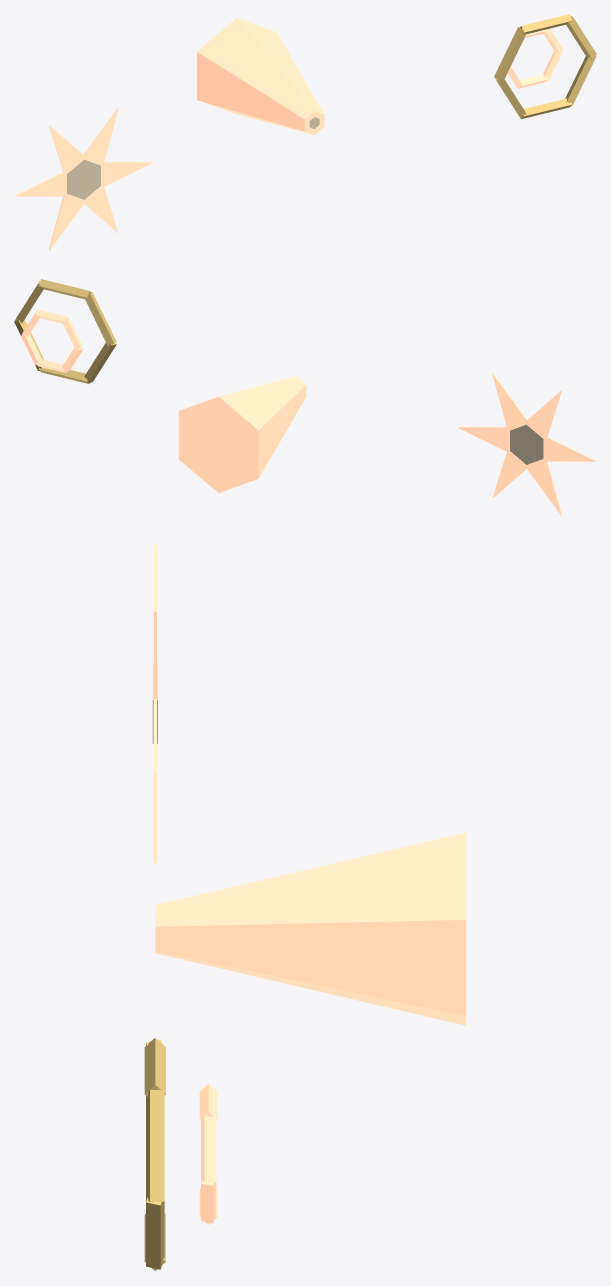
The model's file is FX_AegisMuzzleFlashes.fbx.
3 renders of one model, top to bottom at view 1: azimuth 30°, elevation 25°; view 2: azimuth 150°, elevation 25°; view 3: azimuth 270°, elevation 25°, orthographic. The views are drawn at different scales.
Parts seen in each view (by area): view 1: AFlash_ConeOuter, AFlash_HexStar, AFlash_RingA, AFlash_HexCore, AFlash_RingB; view 2: AFlash_ConeOuter, AFlash_HexStar, AFlash_RingA, AFlash_RingB, AFlash_HexCore; view 3: AFlash_ConeOuter, AFlash_RingA, AFlash_RingB, AFlash_HexStar.
Boxes of the visible parts, <box> form: AFlash_ConeOuter: <box>197,18,324,134</box>; AFlash_HexStar: <box>14,108,152,250</box>; AFlash_RingA: <box>494,14,596,119</box>; AFlash_HexCore: <box>67,159,100,199</box>; AFlash_RingB: <box>501,28,563,88</box>; AFlash_ConeOuter: <box>178,376,306,492</box>; AFlash_HexStar: <box>458,373,596,515</box>; AFlash_RingA: <box>14,279,116,384</box>; AFlash_RingB: <box>21,309,83,372</box>; AFlash_HexCore: <box>510,424,543,464</box>; AFlash_ConeOuter: <box>155,832,466,1025</box>; AFlash_RingA: <box>144,1037,165,1271</box>; AFlash_RingB: <box>199,1084,217,1224</box>; AFlash_HexStar: <box>153,544,156,863</box>.
Size of the model in its own units: 1.51 by 0.3118 by 0.362.
